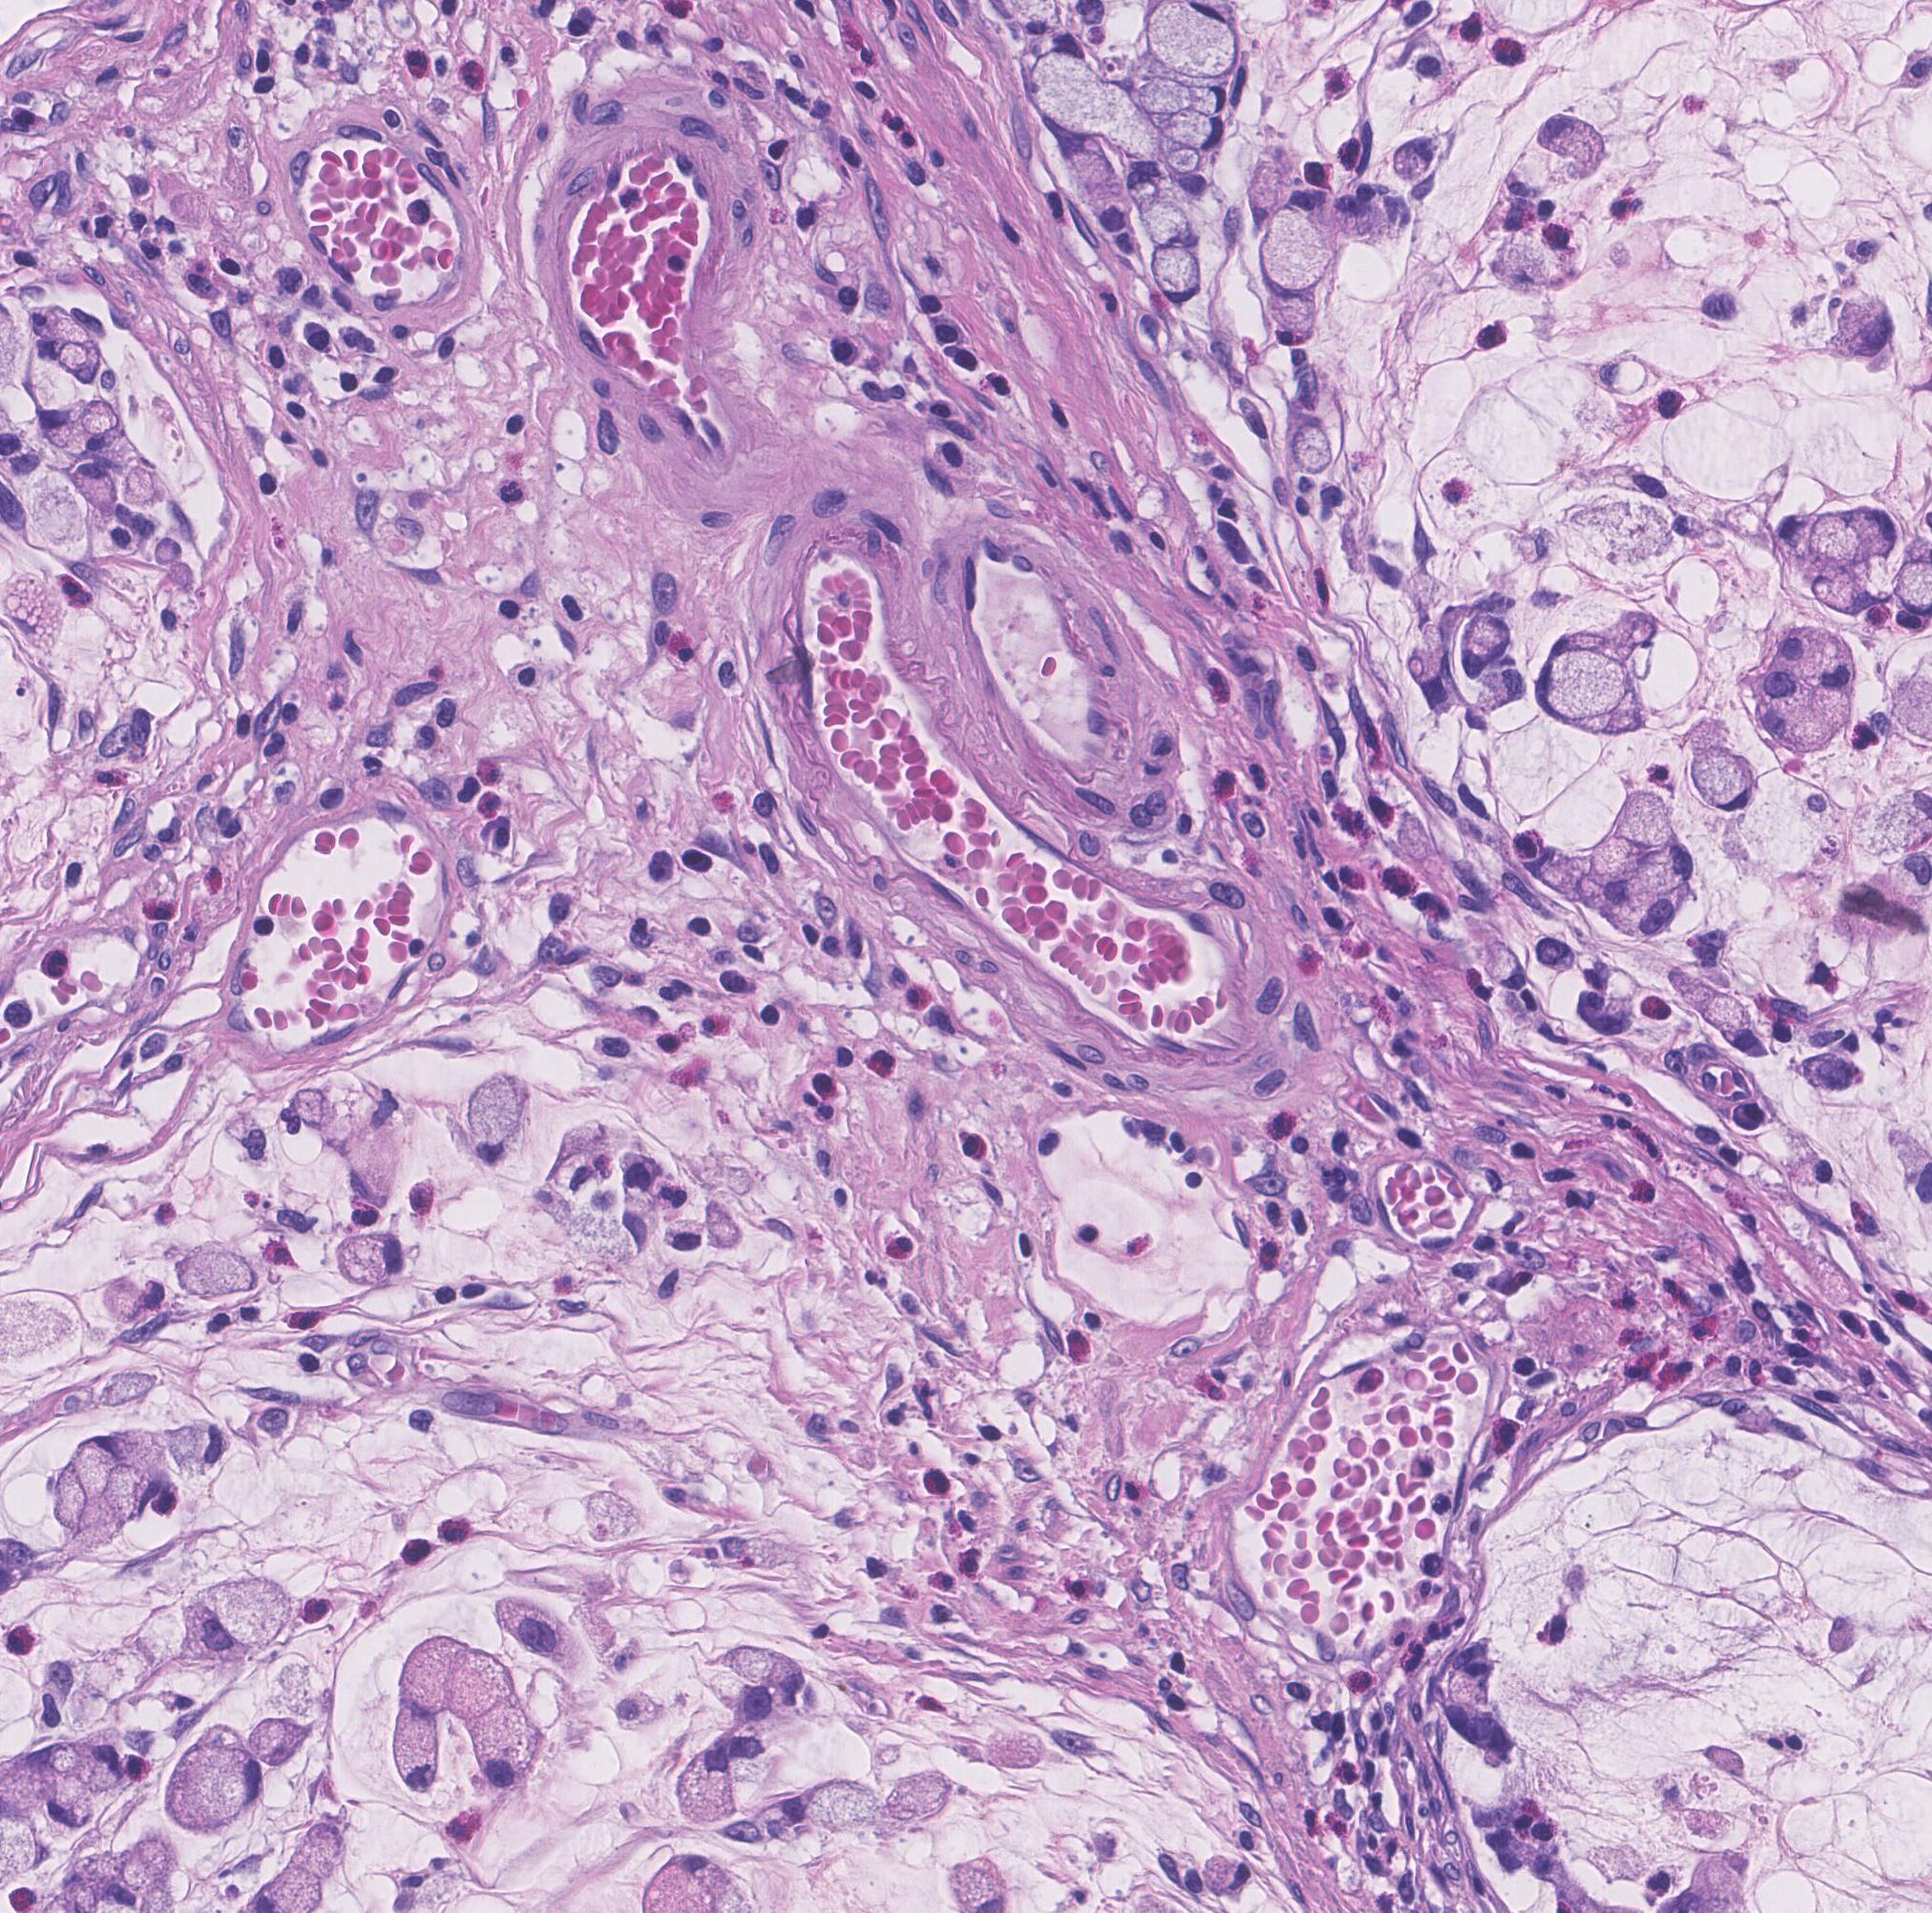ring_cell_cancer: (1540, 622, 1673, 741), (47, 1421, 173, 1540), (168, 1729, 270, 1831), (182, 1571, 294, 1661), (1254, 201, 1336, 305), (1790, 543, 1895, 618), (464, 1063, 536, 1172), (1578, 491, 1673, 573), (471, 1706, 554, 1792), (175, 1239, 271, 1310), (1682, 727, 1759, 816), (788, 1769, 878, 1845), (725, 1633, 816, 1701), (1811, 501, 1902, 566), (296, 1811, 368, 1887), (1825, 291, 1899, 363), (391, 1712, 454, 1792), (335, 1230, 417, 1291), (242, 1708, 324, 1769), (7, 573, 70, 652), (681, 1738, 739, 1824), (165, 1415, 231, 1480), (1615, 790, 1676, 857), (1452, 615, 1510, 678), (720, 1719, 772, 1783), (1580, 867, 1643, 920), (70, 461, 123, 519), (1289, 417, 1340, 475), (1804, 1049, 1864, 1097), (1643, 844, 1697, 895), (1477, 666, 1527, 713)
